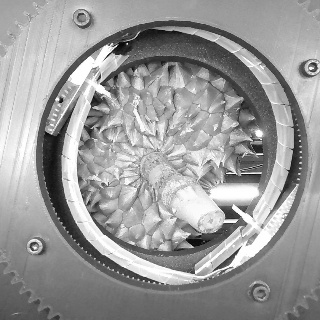base: (135, 148, 168, 188)
end: (197, 210, 226, 234)
